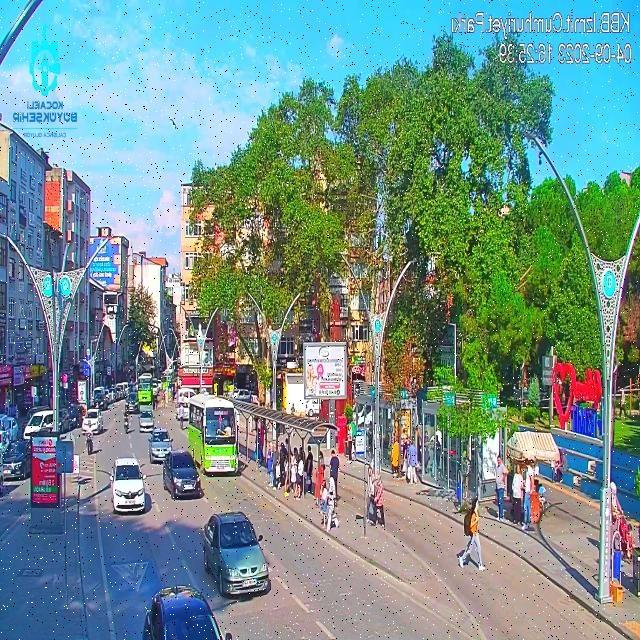Bus: (182, 396, 245, 476), (138, 372, 154, 403)
Car: (203, 501, 286, 596), (150, 581, 217, 640), (108, 458, 148, 513), (166, 450, 203, 496), (6, 434, 36, 486), (148, 428, 178, 459), (78, 408, 106, 436), (139, 404, 155, 436)
Cycle: (118, 408, 136, 434)
Van: (27, 405, 68, 444)
